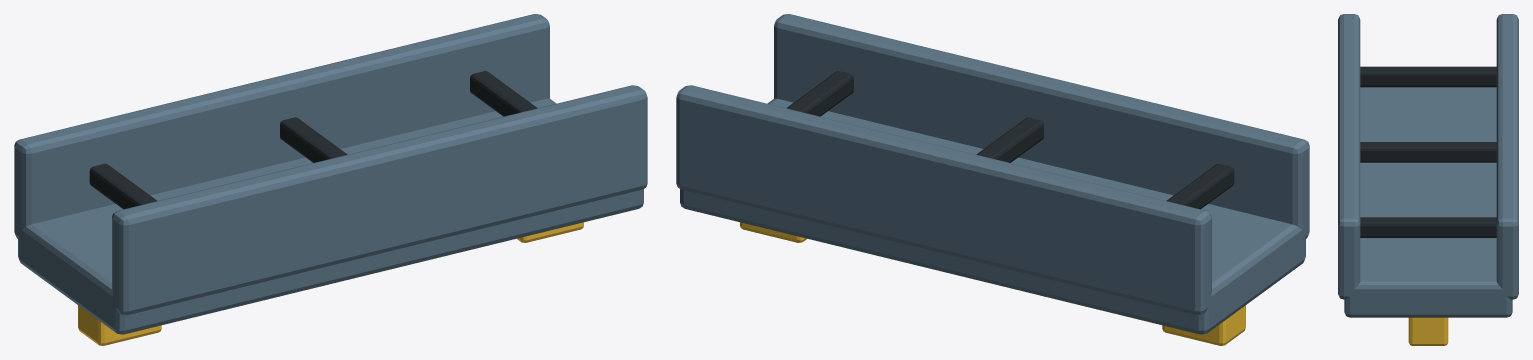
The model's file is utility-room-cable-tray-1m.glb.
3 views of the same model, side by side, from view 1: azimuth 30°, elevation 25°; view 2: azimuth 150°, elevation 25°; view 3: azimuth 270°, elevation 25° (orthographic). The views are drawn at different scales.
Visible parts, largest first — view 1: EXPORT_layout_a_tray_side_-0.16, EXPORT_layout_a_tray_side_+0.16, EXPORT_layout_a_tray_base_1m, EXPORT_layout_a_tray_crossbar_-0.36, EXPORT_layout_a_tray_crossbar_+0.36, EXPORT_layout_a_tray_crossbar_+0.00, EXPORT_layout_a_tray_mount_-0.40; view 2: EXPORT_layout_a_tray_side_+0.16, EXPORT_layout_a_tray_side_-0.16, EXPORT_layout_a_tray_base_1m, EXPORT_layout_a_tray_crossbar_-0.36, EXPORT_layout_a_tray_crossbar_+0.36, EXPORT_layout_a_tray_crossbar_+0.00, EXPORT_layout_a_tray_mount_-0.40; view 3: EXPORT_layout_a_tray_base_1m, EXPORT_layout_a_tray_side_-0.16, EXPORT_layout_a_tray_side_+0.16, EXPORT_layout_a_tray_crossbar_-0.36, EXPORT_layout_a_tray_crossbar_+0.00, EXPORT_layout_a_tray_crossbar_+0.36, EXPORT_layout_a_tray_mount_+0.40.
Part boxes in pixels (left/top/right/bottom): EXPORT_layout_a_tray_side_-0.16: left=112, top=85, right=647, bottom=315; EXPORT_layout_a_tray_side_+0.16: left=14, top=14, right=549, bottom=238; EXPORT_layout_a_tray_base_1m: left=18, top=98, right=643, bottom=334; EXPORT_layout_a_tray_crossbar_-0.36: left=89, top=163, right=157, bottom=209; EXPORT_layout_a_tray_crossbar_+0.36: left=470, top=71, right=537, bottom=116; EXPORT_layout_a_tray_crossbar_+0.00: left=280, top=117, right=347, bottom=162; EXPORT_layout_a_tray_mount_-0.40: left=78, top=305, right=161, bottom=345; EXPORT_layout_a_tray_side_+0.16: left=676, top=85, right=1211, bottom=315; EXPORT_layout_a_tray_side_-0.16: left=774, top=14, right=1309, bottom=238; EXPORT_layout_a_tray_base_1m: left=680, top=98, right=1305, bottom=334; EXPORT_layout_a_tray_crossbar_-0.36: left=1166, top=163, right=1234, bottom=209; EXPORT_layout_a_tray_crossbar_+0.36: left=786, top=71, right=853, bottom=116; EXPORT_layout_a_tray_crossbar_+0.00: left=976, top=117, right=1043, bottom=162; EXPORT_layout_a_tray_mount_-0.40: left=1162, top=305, right=1245, bottom=345; EXPORT_layout_a_tray_base_1m: left=1344, top=87, right=1512, bottom=317; EXPORT_layout_a_tray_side_-0.16: left=1338, top=14, right=1360, bottom=299; EXPORT_layout_a_tray_side_+0.16: left=1496, top=14, right=1518, bottom=299; EXPORT_layout_a_tray_crossbar_-0.36: left=1360, top=66, right=1496, bottom=87; EXPORT_layout_a_tray_crossbar_+0.00: left=1360, top=142, right=1496, bottom=162; EXPORT_layout_a_tray_crossbar_+0.36: left=1360, top=217, right=1496, bottom=237; EXPORT_layout_a_tray_mount_+0.40: left=1408, top=317, right=1448, bottom=345.
Size of the model in its own units: 1 by 0.3 by 0.365.
